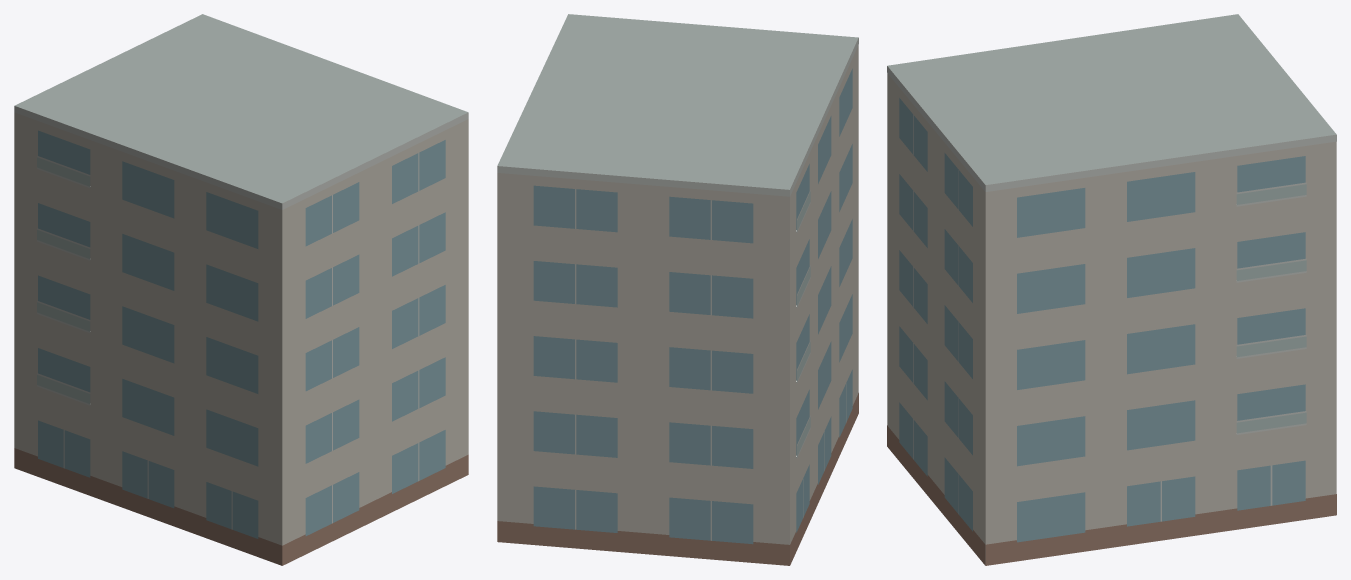
File: survey-upis-32970852.glb
The picture shows the model from 3 angles, left to right: view 1: azimuth 30°, elevation 25°; view 2: azimuth 150°, elevation 25°; view 3: azimuth 270°, elevation 25°; orthographic projection. The views are drawn at different scales.
Parts seen in each view (by area): view 1: survey-upis-32970852.tmp; view 2: survey-upis-32970852.tmp; view 3: survey-upis-32970852.tmp.
Boxes of the visible parts, left/top/right/bottom form: survey-upis-32970852.tmp: left=14, top=14, right=468, bottom=565; survey-upis-32970852.tmp: left=497, top=14, right=858, bottom=565; survey-upis-32970852.tmp: left=887, top=14, right=1336, bottom=565.
Size of the model in its own units: 12.88 by 13.35 by 14.3.
